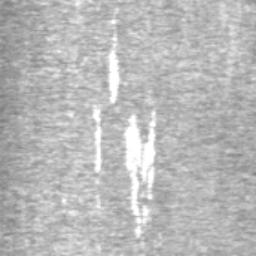White rust: (124, 111, 157, 216), (108, 50, 120, 104), (93, 108, 102, 174), (135, 226, 141, 237)
